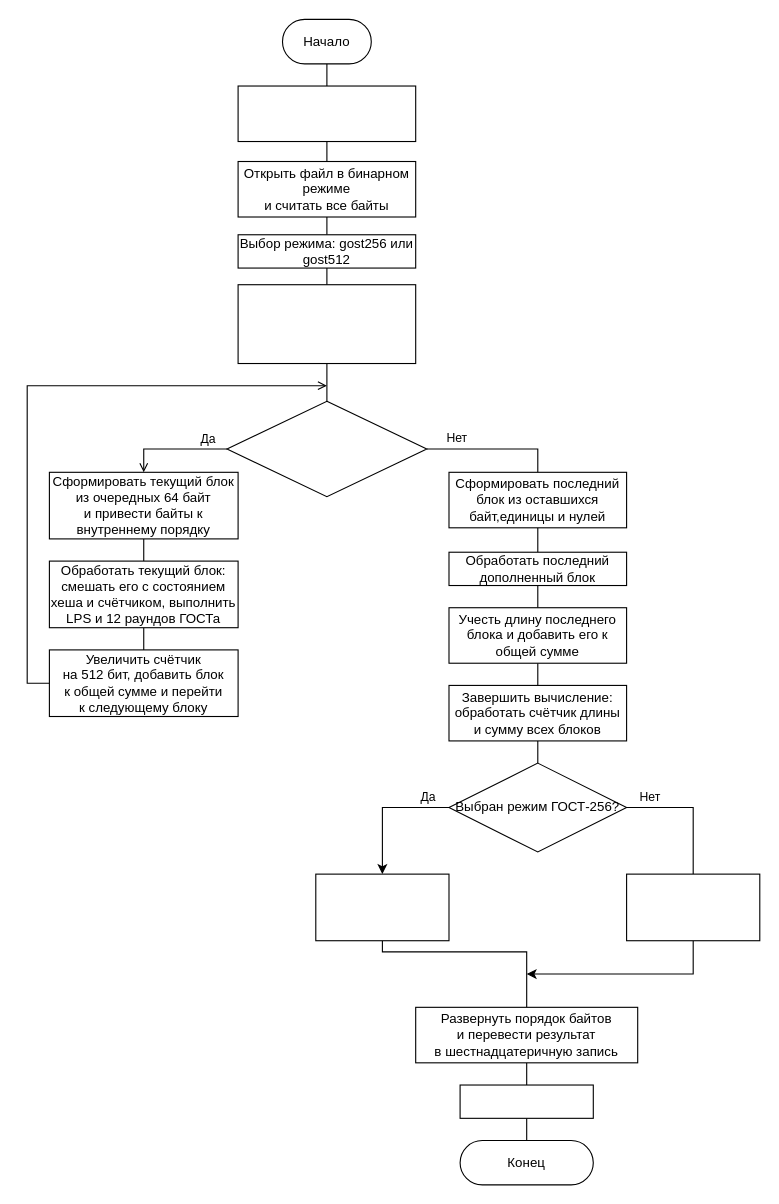
This 779x1204 diagram has some shape labels left out. Here are the shapes that lost their labels. From the top down, the centre of each, then its label:
(x=326, y=113): Получить режим работы и имя файла из аргументов командной строки
(x=326, y=324): Инициализировать состояние хеша, счётчик длины, сумму блоков и позицию чтения
(x=326, y=448): Осталось не менее 64 необработанных байт?
(x=382, y=907): Сформировать результат длиной 256 бит
(x=692, y=907): Сформировать результат длиной 512 бит
(x=526, y=1101): Вернуть хе ш-сумму
